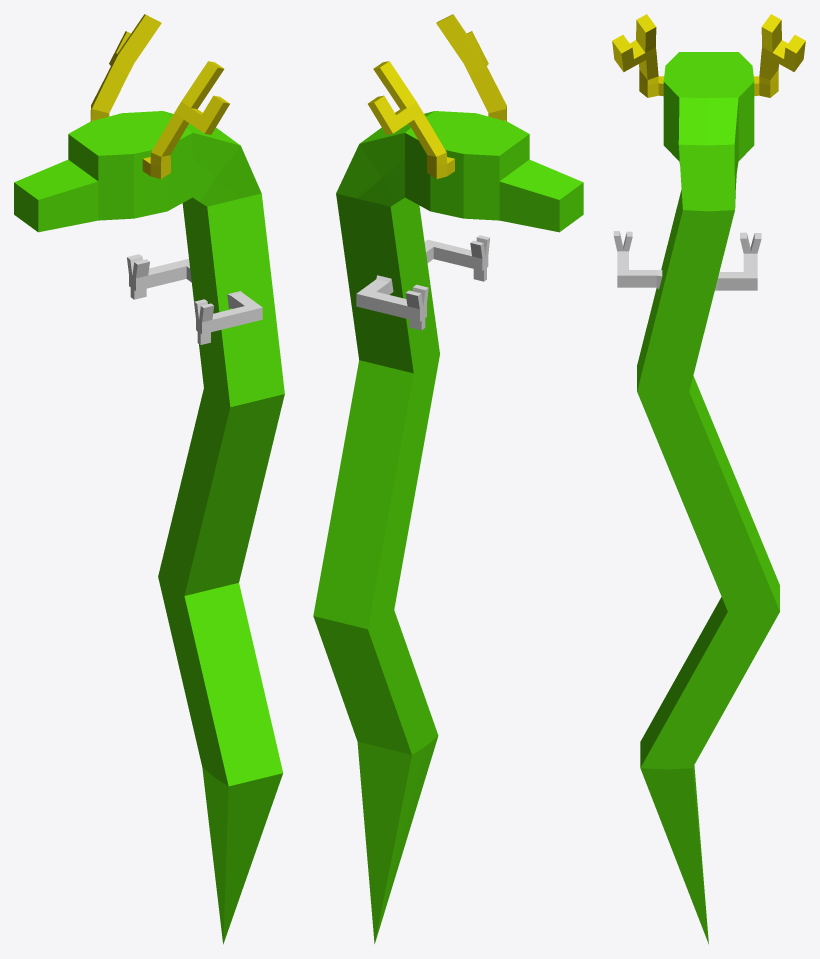
File: dragon.glb
3 renders of one model, left to right at view 1: azimuth 30°, elevation 25°; view 2: azimuth 150°, elevation 25°; view 3: azimuth 270°, elevation 25°, orthographic.
Visible parts, largest first — view 1: 立方体; view 2: 立方体; view 3: 立方体.
Boxes of the visible parts, left/top/right/bottom form: 立方体: left=14, top=14, right=284, bottom=944; 立方体: left=313, top=14, right=583, bottom=943; 立方体: left=612, top=14, right=805, bottom=944.
Size of the model in its own units: 7.96 by 31.41 by 6.07.
